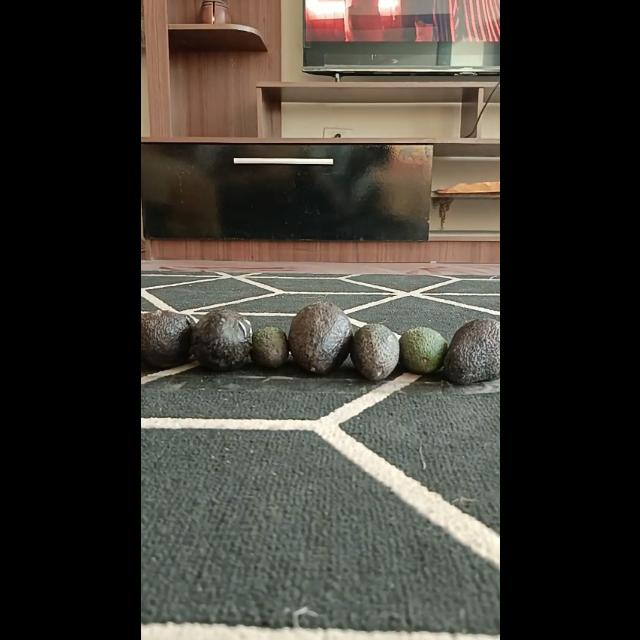Primera: (288, 301, 352, 374), (189, 308, 253, 370), (443, 318, 499, 384), (140, 309, 196, 369)
Segunda: (350, 324, 400, 381), (398, 326, 448, 374)
Tercera: (250, 326, 288, 368)
